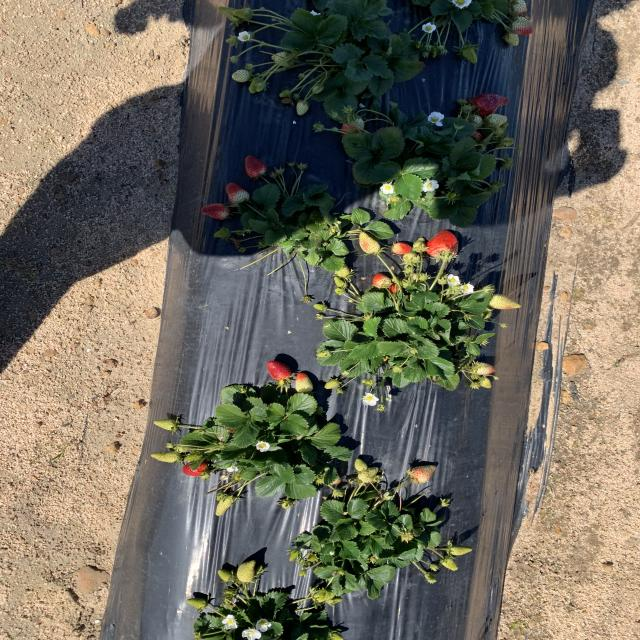unripe: (426, 230, 459, 260), (472, 93, 510, 115), (338, 116, 365, 140), (200, 203, 233, 220), (245, 154, 268, 178), (265, 360, 292, 380), (228, 182, 252, 203), (182, 461, 210, 477), (463, 128, 487, 143), (373, 273, 391, 289), (389, 281, 406, 297), (392, 242, 412, 254)
